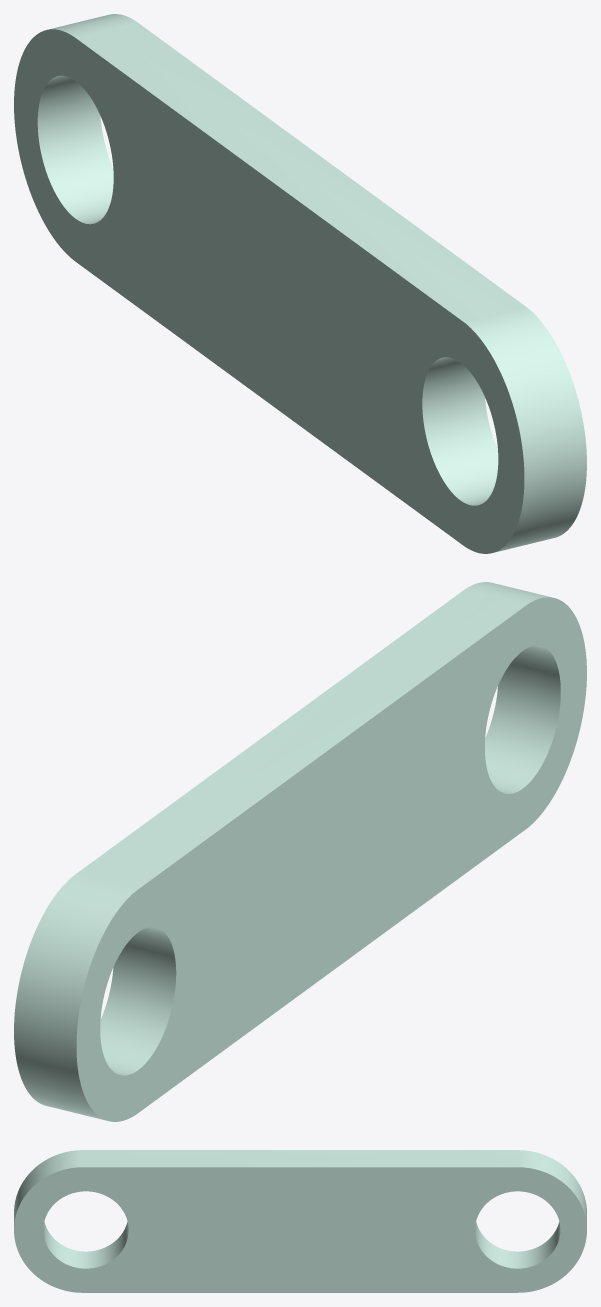
3 views of the same model, one above another, from view 1: azimuth 30°, elevation 25°; view 2: azimuth 150°, elevation 25°; view 3: azimuth 270°, elevation 25° (orthographic). The views are drawn at different scales.
Visible parts, largest first — view 1: Renderer Node; view 2: Renderer Node; view 3: Renderer Node.
Boxes of the visible parts, bbox=[...] form: Renderer Node: bbox=[14, 14, 586, 553]; Renderer Node: bbox=[14, 582, 586, 1121]; Renderer Node: bbox=[14, 1150, 586, 1292].
Bounding box in the file's own units: 0.1094 × 0.3743 × 1.55.
